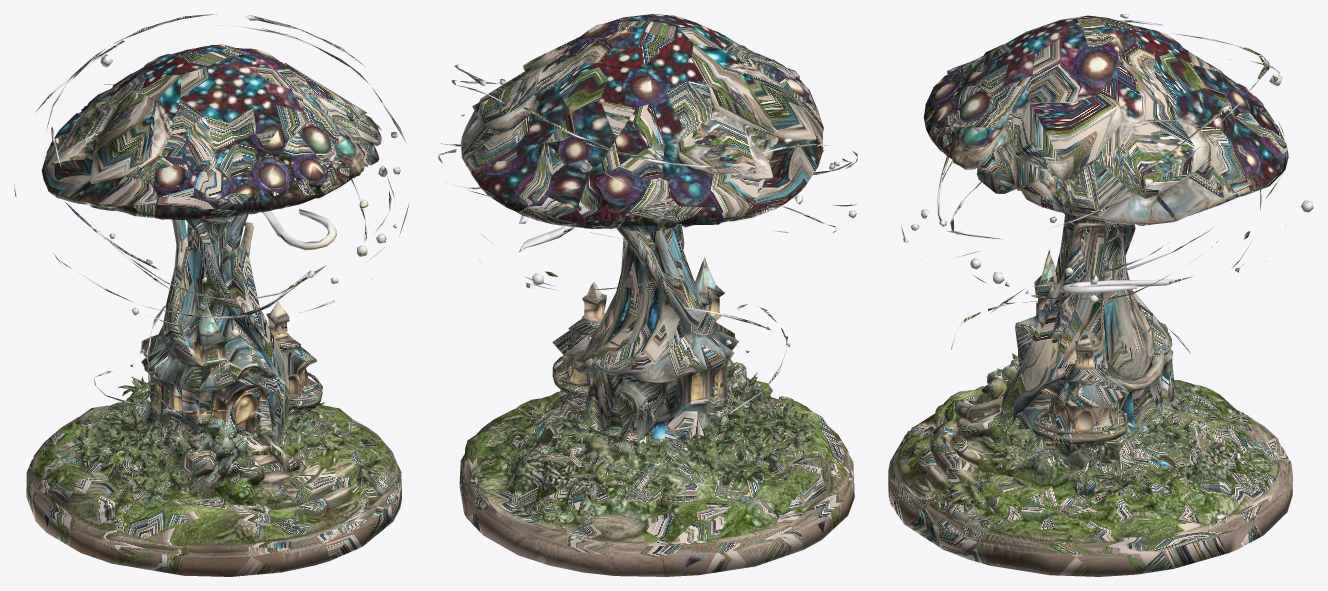
Rendered from Nova_Shroom.glb.
3 renders of one model, left to right at view 1: azimuth 30°, elevation 25°; view 2: azimuth 150°, elevation 25°; view 3: azimuth 270°, elevation 25°, orthographic. The views are drawn at different scales.
Visible parts, largest first — view 1: Nova_Shroom; view 2: Nova_Shroom; view 3: Nova_Shroom.
Part boxes in pixels (box(x1,y1,x2,y2)): Nova_Shroom: box(14, 14, 409, 576); Nova_Shroom: box(438, 14, 857, 576); Nova_Shroom: box(888, 14, 1313, 576).
Bounding box in the file's own units: 1.56 × 1.9 × 1.56.
1 material, 1 textured.
